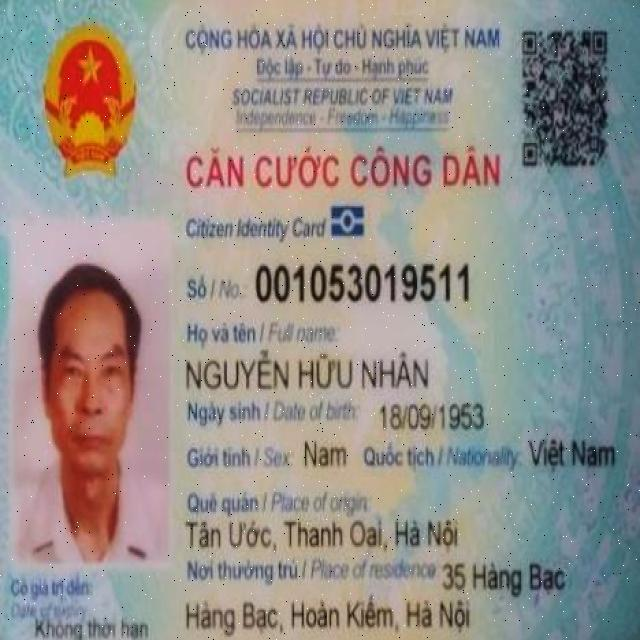current_place: (185, 597, 473, 636), (441, 559, 569, 597)
dob: (379, 397, 488, 434)
expire_date: (33, 613, 150, 640)
gender: (302, 438, 348, 469)
id: (253, 260, 470, 306)
name: (183, 347, 432, 392)
nationality: (527, 436, 618, 472)
origin_place: (185, 518, 460, 553)
qr: (516, 24, 614, 169)
